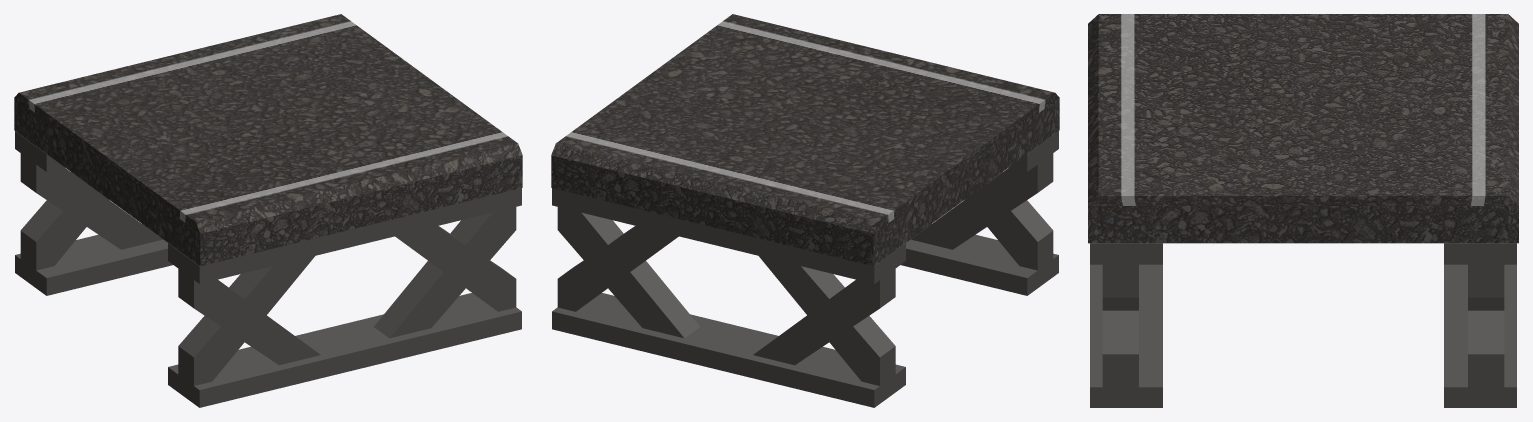
The model's file is Model_Desert_Bridge.fbx.
The picture shows the model from 3 angles, left to right: view 1: azimuth 30°, elevation 25°; view 2: azimuth 150°, elevation 25°; view 3: azimuth 270°, elevation 25°; orthographic projection. The views are drawn at different scales.
Parts seen in each view (by area): view 1: Model_Frost_Bridge; view 2: Model_Frost_Bridge; view 3: Model_Frost_Bridge.
Boxes of the visible parts, bbox=[...] form: Model_Frost_Bridge: bbox=[14, 14, 522, 407]; Model_Frost_Bridge: bbox=[551, 14, 1059, 407]; Model_Frost_Bridge: bbox=[1088, 14, 1518, 407].
Size of the model in its own units: 200 by 108 by 200.
Materials: 2 (2 with a texture image).
